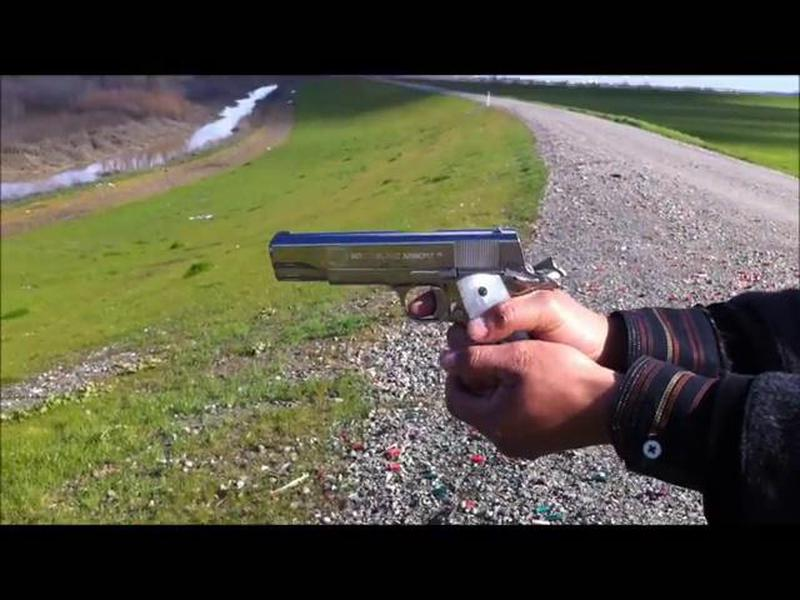Pistola: (242, 218, 563, 378)
